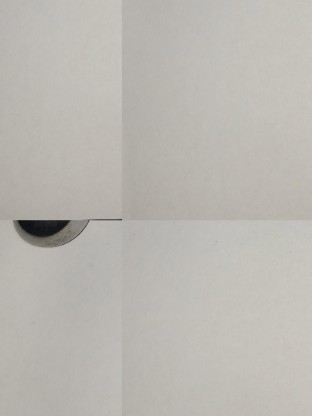ironball: (12, 219, 96, 248)
